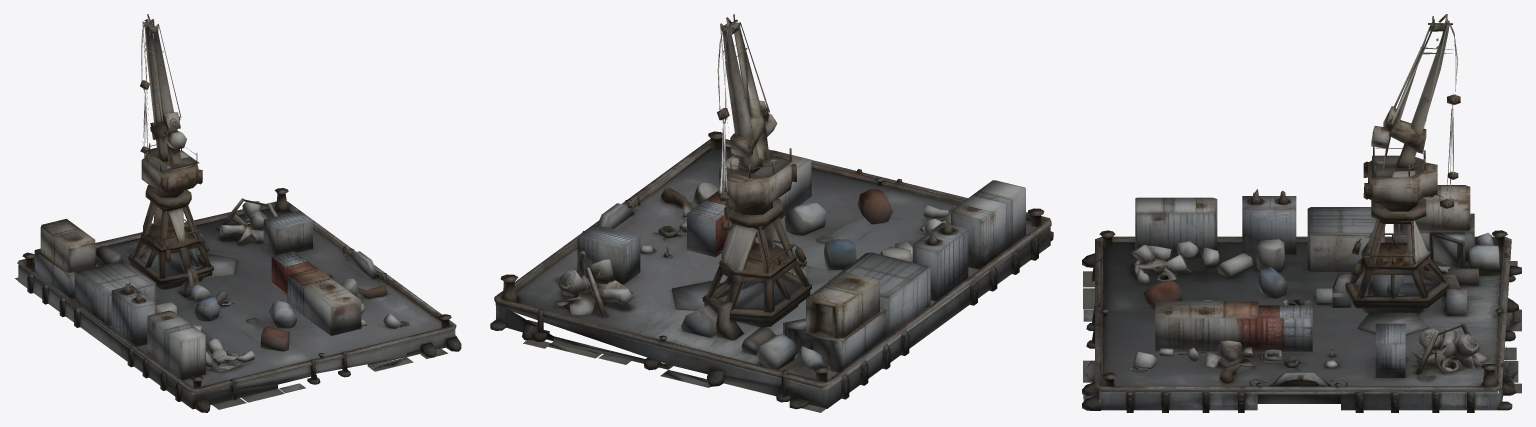
The model's file is abandoned_large_dock.glb.
3 views of the same model, side by side, from view 1: azimuth 30°, elevation 25°; view 2: azimuth 150°, elevation 25°; view 3: azimuth 270°, elevation 25° (orthographic). The views are drawn at different scales.
Visible parts, largest first — view 1: tripo_node_2e82d93b-0fa2-4987-9152-15457d45c640; view 2: tripo_node_2e82d93b-0fa2-4987-9152-15457d45c640; view 3: tripo_node_2e82d93b-0fa2-4987-9152-15457d45c640.
Boxes of the visible parts, x1,y1,x2,y2 form: tripo_node_2e82d93b-0fa2-4987-9152-15457d45c640: (15,14,461,412); tripo_node_2e82d93b-0fa2-4987-9152-15457d45c640: (490,14,1053,412); tripo_node_2e82d93b-0fa2-4987-9152-15457d45c640: (1082,14,1521,412).
Bounding box in the file's own units: 0.8223 × 0.7676 × 0.998.
1 material, 1 textured.
